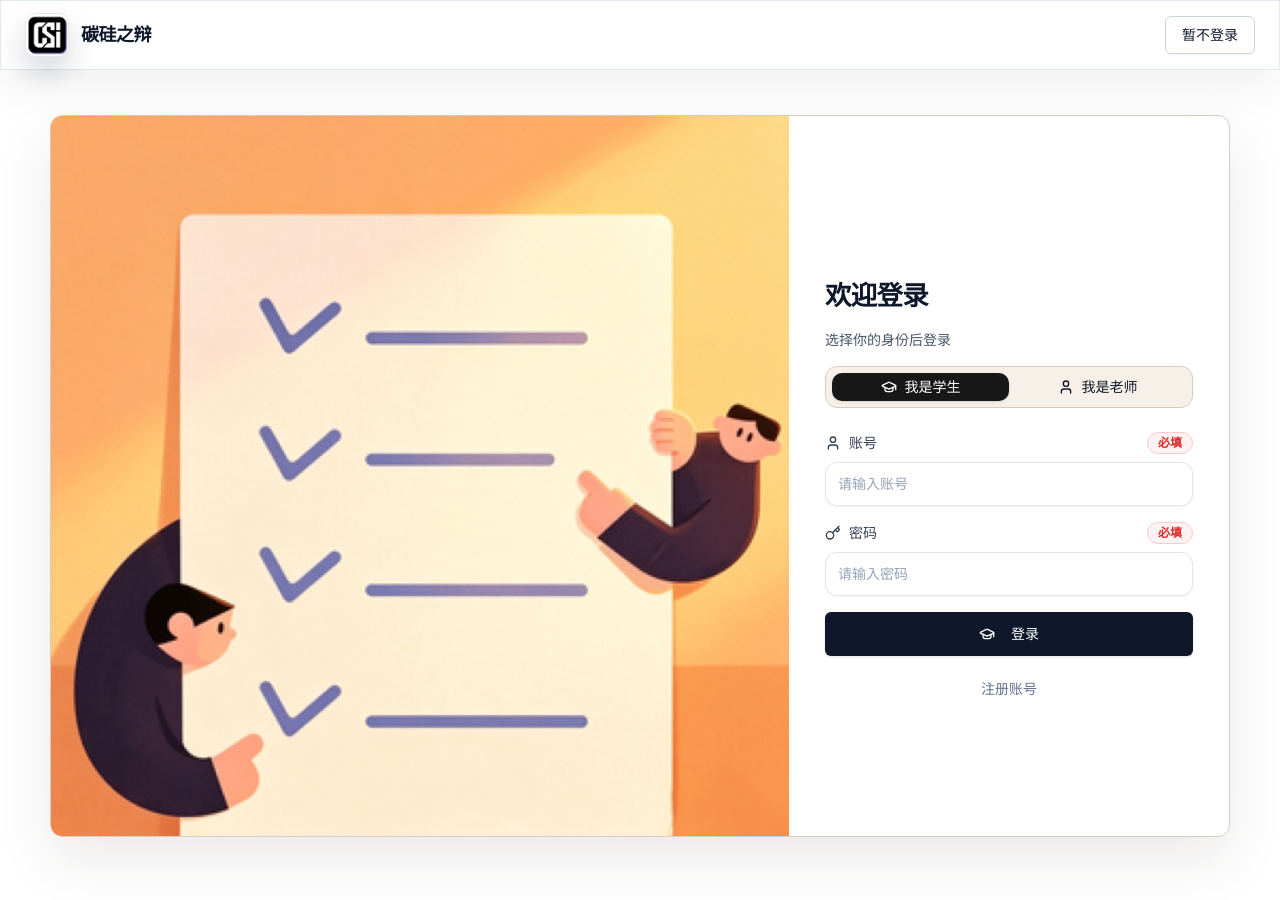
Test: LoginPortal › shows a confirm-password field in register mode for student and teacher
Click the button "注册账号": click(1009, 689) 981,679 -> 1037,699
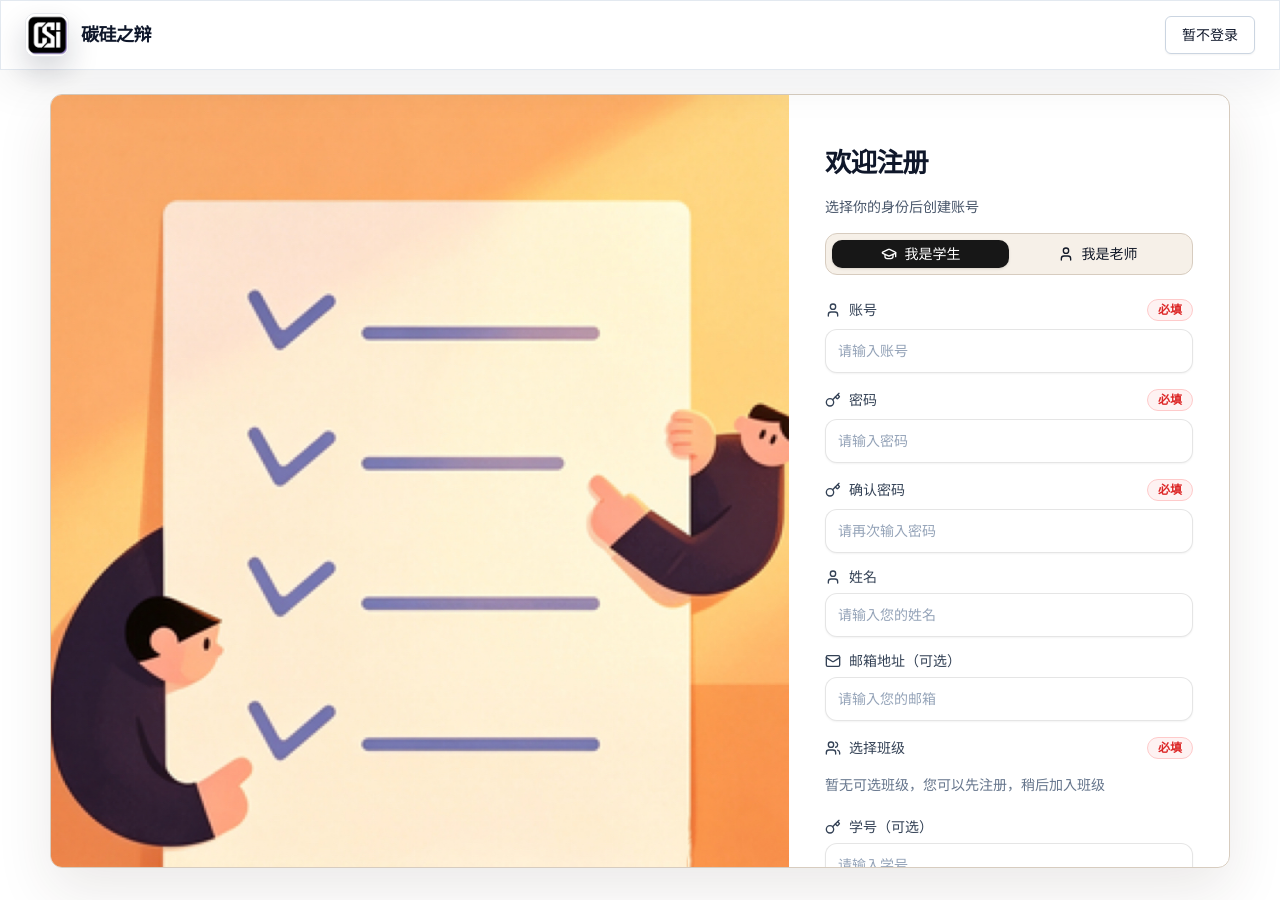
Expected: the text "欢迎注册" is shown, 825,146 -> 928,178
Expected: the password field labelled "确认密码 必填" is shown, 825,509 -> 1193,553
Press the mouse on the tab "我是老师": (1098, 254) 1009,240 -> 1186,268
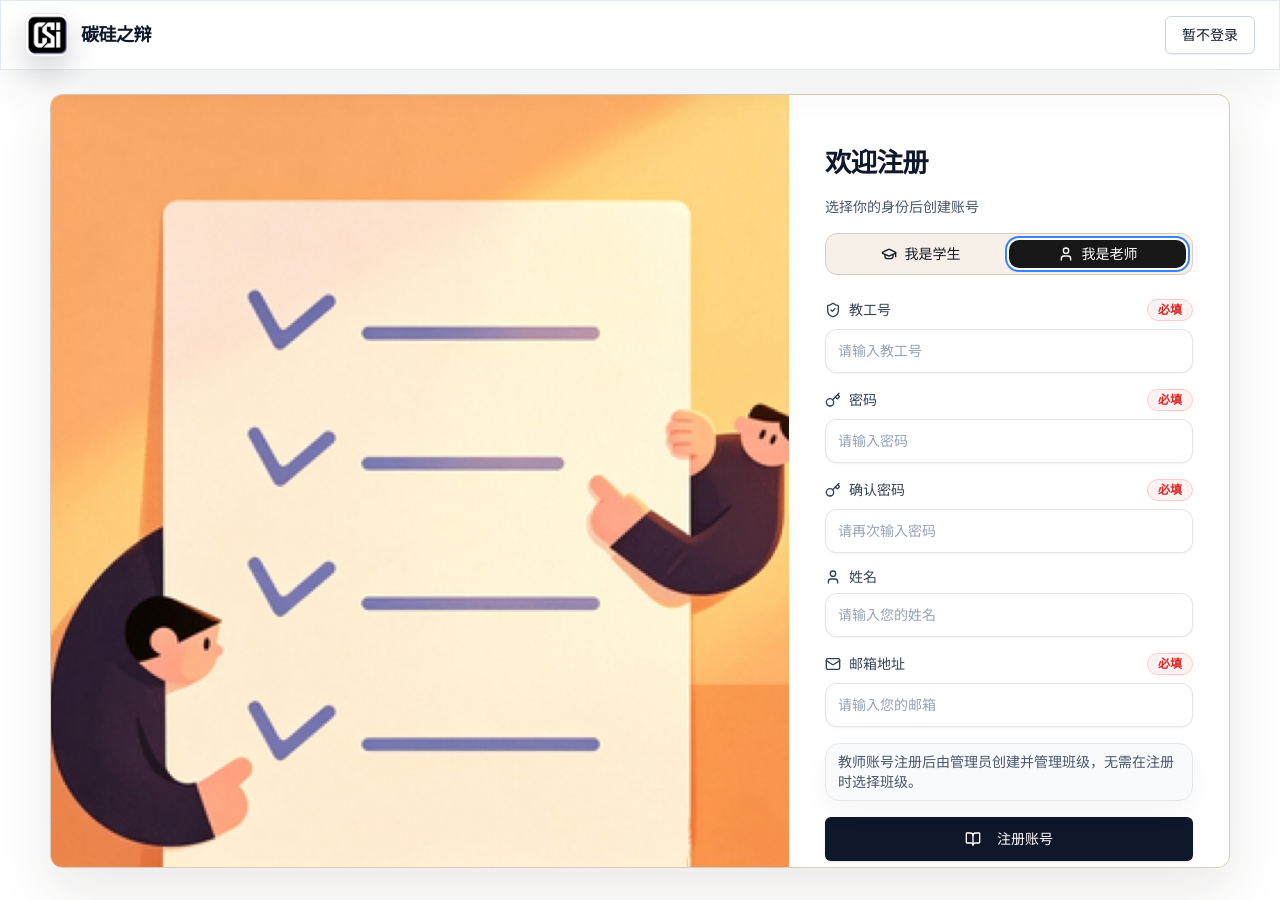
Expected: the password field labelled "确认密码 必填" is shown, 825,509 -> 1193,553
Expected: the button "注册账号" is shown, 825,817 -> 1193,861
